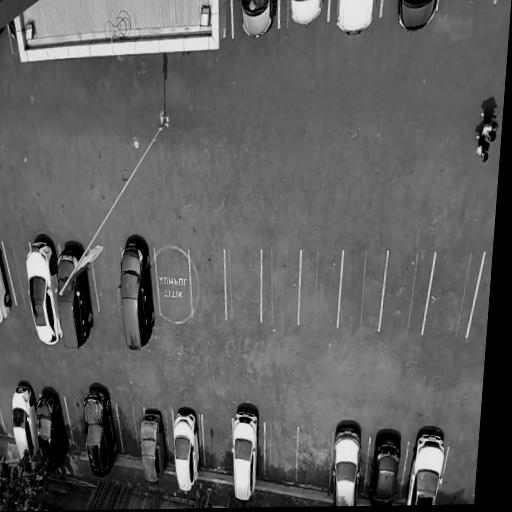Car: (119, 237, 157, 352), (56, 241, 94, 351), (25, 237, 63, 347), (404, 429, 451, 505), (35, 389, 70, 475), (232, 404, 262, 504), (330, 421, 364, 507), (367, 432, 404, 506), (11, 384, 41, 473), (172, 411, 203, 492), (140, 408, 169, 485), (330, 0, 377, 39), (235, 0, 278, 40), (394, 0, 439, 34), (0, 234, 13, 326), (286, 0, 324, 30), (456, 0, 486, 6)
Space Available: (422, 254, 484, 338), (380, 251, 435, 335), (339, 250, 388, 330), (299, 250, 343, 327), (261, 249, 299, 324), (225, 250, 263, 321), (188, 250, 226, 320), (155, 248, 192, 319), (297, 428, 333, 490), (468, 252, 493, 340), (90, 247, 121, 316), (438, 451, 477, 505), (265, 424, 296, 484), (3, 242, 30, 309), (203, 415, 233, 475), (116, 404, 141, 459), (64, 396, 87, 454), (0, 389, 15, 440)
